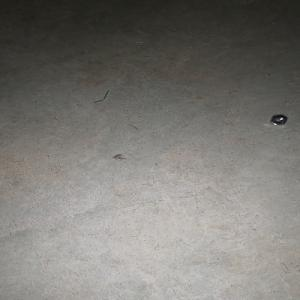Nut: (266, 114, 285, 125)
